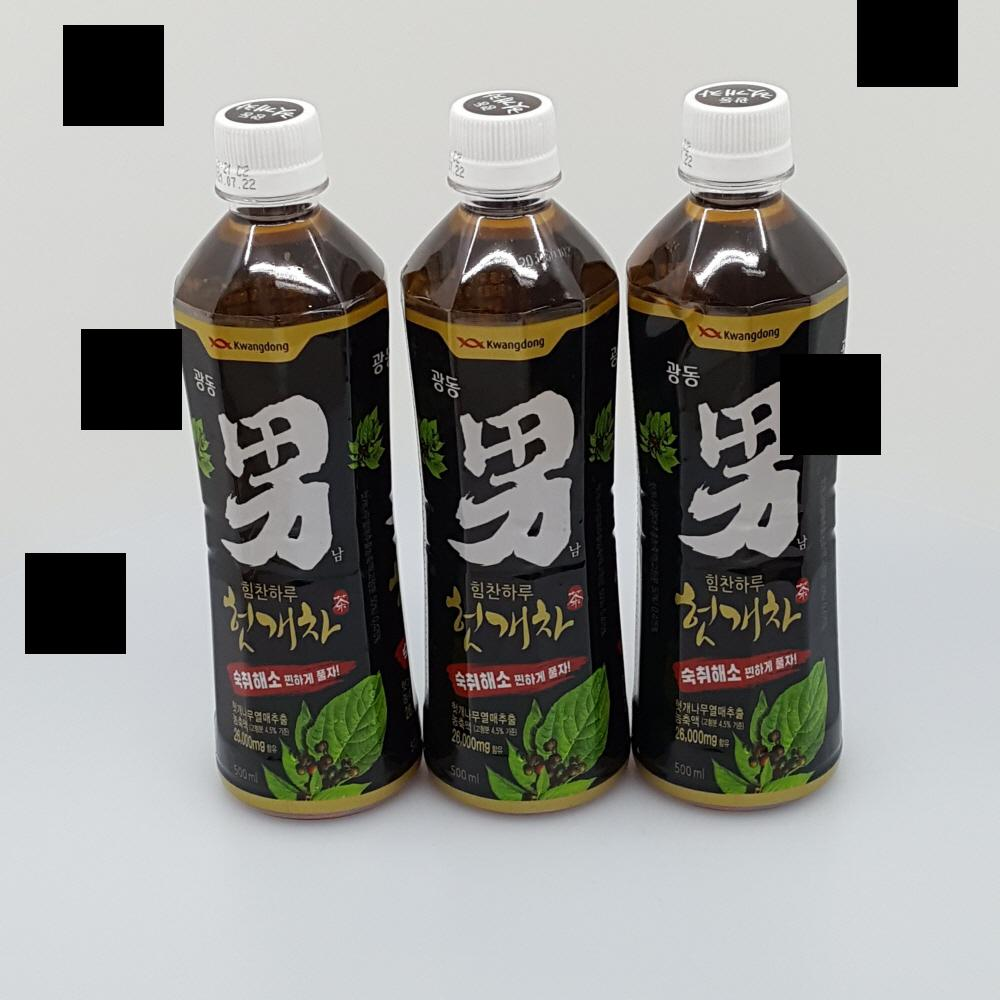heotgaecha: (162, 94, 427, 827), (399, 88, 634, 819), (621, 77, 849, 811)
